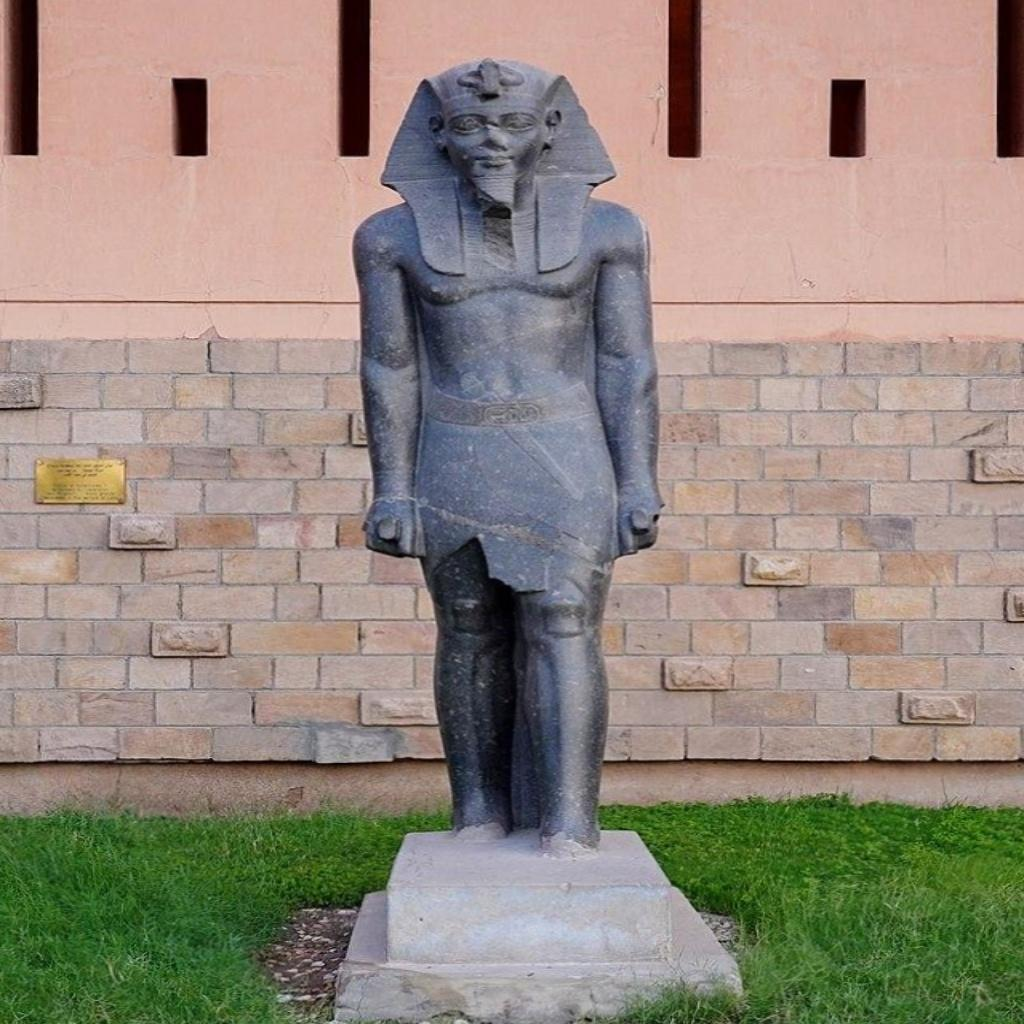Amenhotep III: (344, 55, 672, 858)
